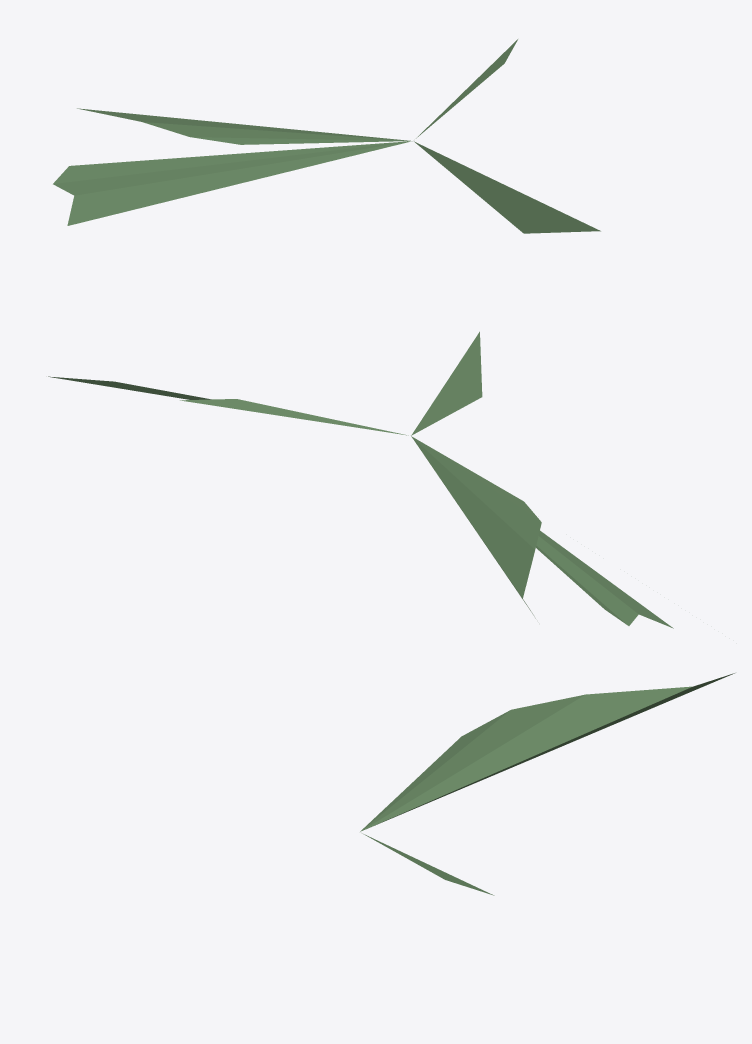
Rendered from c_1667_17833_forest.glb.
The picture shows the model from 3 angles, top to bottom: view 1: azimuth 30°, elevation 25°; view 2: azimuth 150°, elevation 25°; view 3: azimuth 270°, elevation 25°; orthographic projection. The views are drawn at different scales.
Visible parts, largest first — view 1: geometry_0; view 2: geometry_0; view 3: geometry_0.
Part boxes in pixels (x1,y1,x2,y2): geometry_0: [53, 39, 600, 233]; geometry_0: [48, 331, 673, 628]; geometry_0: [360, 673, 734, 895].
Bounding box in the file's own units: 367 × 68.22 × 261.
